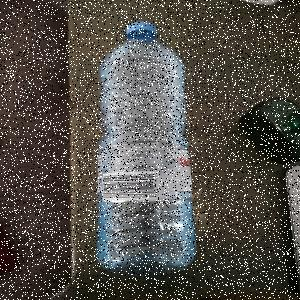Plastic-bottle: (95, 22, 199, 279)
